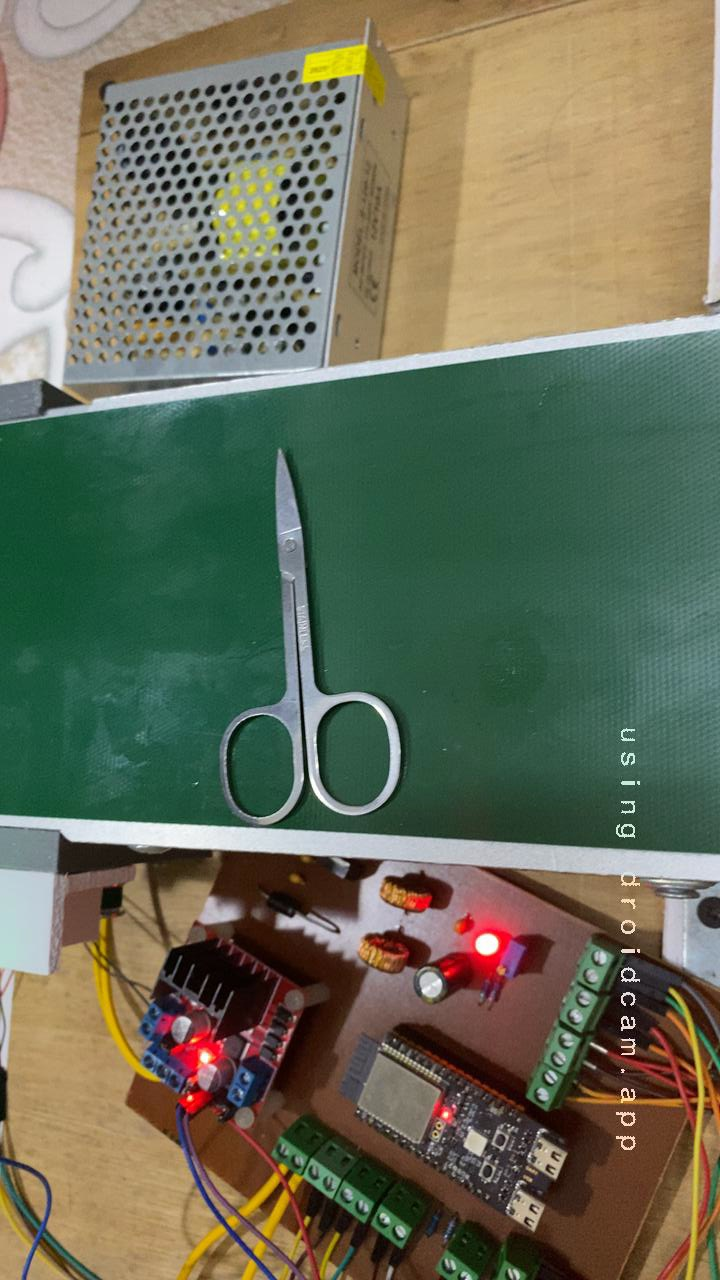scissor: (173, 433, 424, 841)
